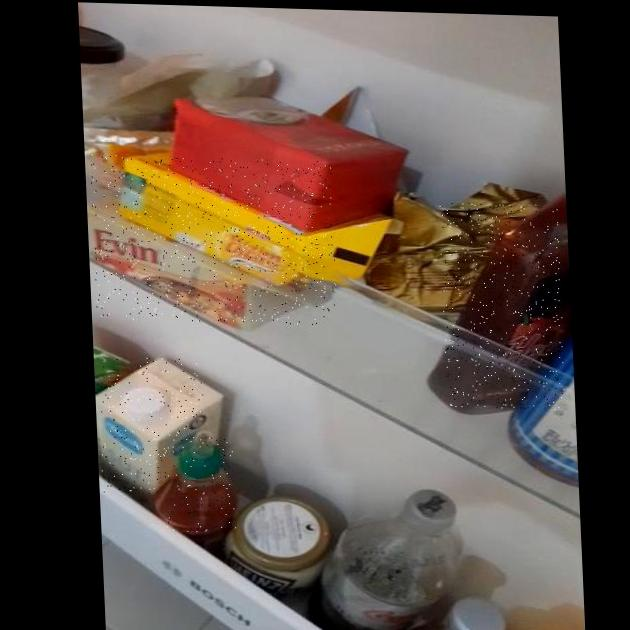butter: (90, 154, 339, 326)
milk: (97, 355, 208, 496)
sauce: (439, 202, 566, 410), (161, 436, 236, 533)
